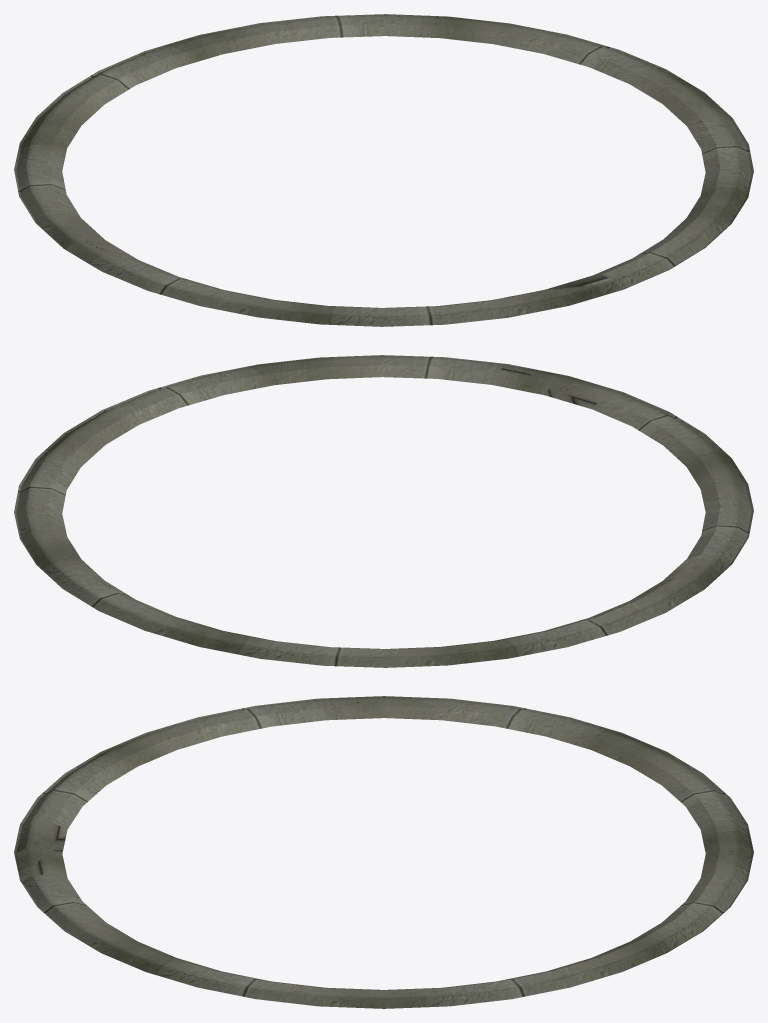
Rendered from tank_pad.glb.
3 views of the same model, one above another, from view 1: azimuth 30°, elevation 25°; view 2: azimuth 150°, elevation 25°; view 3: azimuth 270°, elevation 25° (orthographic).
Visible parts, largest first — view 1: mesh_176_Mesh_big_tank_subset_0; view 2: mesh_176_Mesh_big_tank_subset_0; view 3: mesh_176_Mesh_big_tank_subset_0.
Part boxes in pixels (left/top/right/bottom): mesh_176_Mesh_big_tank_subset_0: left=14, top=14, right=753, bottom=326; mesh_176_Mesh_big_tank_subset_0: left=14, top=355, right=753, bottom=667; mesh_176_Mesh_big_tank_subset_0: left=14, top=696, right=753, bottom=1008.
Bounding box in the file's own units: 34.34 × 0.2986 × 34.34.
Materials: 1 (1 with a texture image).
